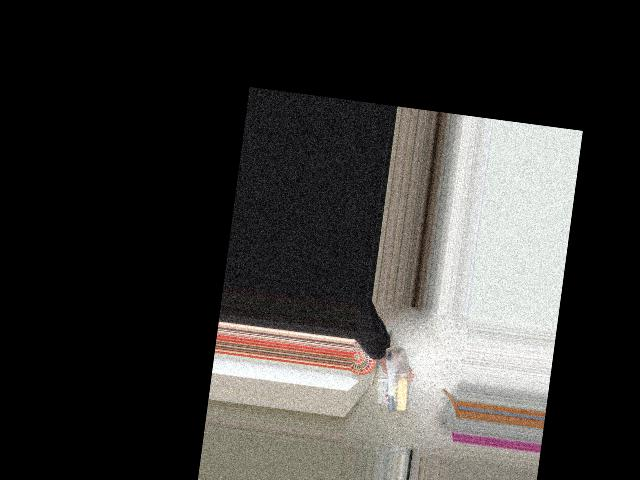cheese: (378, 347, 415, 414)
